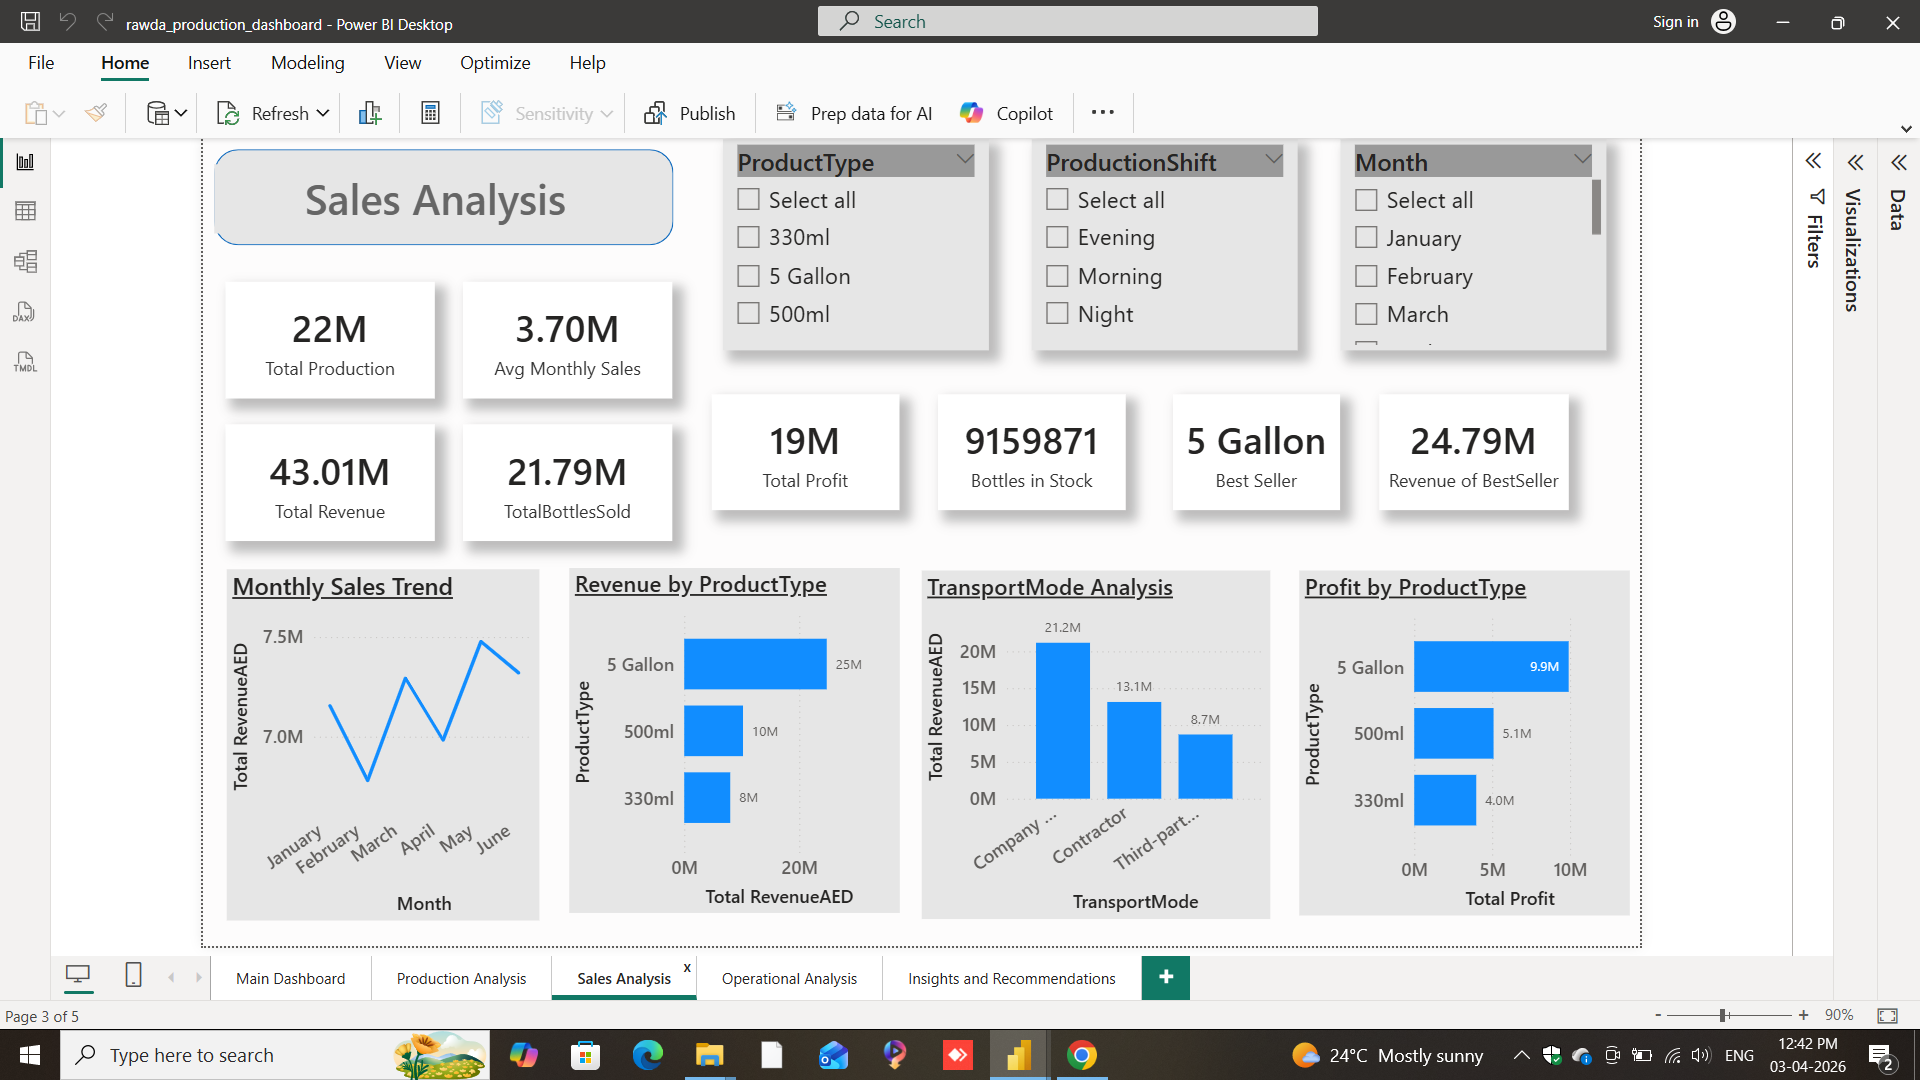

What the dashboard file says about the page in this screenshot:
{"tool":"powerbi","page":{"name":"Sales Analysis","canvas":[1280,720],"ordinal":2},"visuals":[{"type":"shape","box":[10,10,409.1,85.5],"z":1000},{"type":"textbox","box":[9.6,23.3,393.8,61.7],"z":2000},{"type":"slicer","fields":{"Values":["Rawda_procudtion_sales.ProductionShift"]},"box":[738.4,1.4,236.6,188.2],"z":3000},{"type":"slicer","fields":{"Values":["Rawda_procudtion_sales.ProductType"]},"box":[463.3,1.4,236.6,188.2],"z":4000},{"type":"card","fields":{"Values":["Sum(Rawda_production_sales.BottlesProduced)"]},"box":[20.6,127.6,186.6,104.3],"z":5000},{"type":"card","fields":{"Values":["Rawda_production_sales.Avg Monthly Sales"]},"box":[231.9,127.6,186.6,104.3],"z":6000},{"type":"card","fields":{"Values":["Rawda_production_sales.Total Revenue"]},"box":[20.6,255.2,186.6,104.3],"z":7000},{"type":"card","fields":{"Values":["Rawda_production_sales.Total Bottles Sold"]},"box":[231.9,255.2,186.6,104.3],"z":8000},{"type":"lineChart","title":"Monthly Sales Trend","fields":{"Category":["Rawda_production_sales.DateFinal.Variation.Date Hierarchy.Month"],"Y":["Sum(Rawda_production_sales.RevenueAED)"]},"box":[21.4,384.3,278.6,312.9],"z":9000},{"type":"clusteredColumnChart","title":"TransportMode Analysis","fields":{"Category":["Rawda_production_sales.TransportMode"],"Y":["Sum(Rawda_production_sales.RevenueAED)"]},"box":[640,385.7,310,310],"z":10000},{"type":"clusteredBarChart","title":"Revenue by ProductType","fields":{"Category":["Rawda_procudtion_sales.ProductType"],"Y":["Sum(Rawda_production_sales.RevenueAED)"]},"box":[325.7,382.9,294.3,307.1],"z":11000},{"type":"slicer","fields":{"Values":["Rawda_procudtion_sales.DateFinal.Variation.Date Hierarchy.Month"]},"box":[1013.5,1.4,236.6,188.2],"z":12000},{"type":"card","fields":{"Values":["Sum(Rawda_production_sales.Profit)"]},"box":[452.9,228.6,167.1,102.9],"z":13000},{"type":"card","fields":{"Values":["Rawda_production_sales.Best Seller"]},"box":[864.3,228.6,148.6,102.9],"z":14000},{"type":"card","fields":{"Values":["Rawda_production_sales.Revenue of BestSeller"]},"box":[1047.1,228.6,168.6,102.9],"z":15000},{"type":"clusteredBarChart","title":"Profit by ProductType","fields":{"Category":["Rawda_procudtion_sales.ProductType"],"Y":["Rawda_production_sales.Total Profit"]},"box":[975.7,385.7,294.3,307.1],"z":16000},{"type":"card","fields":{"Values":["Rawda_production_sales.Bottles In Stock"]},"box":[654.3,228.6,167.1,102.9],"z":17000}]}

Visuals, with their boxes on the page's 1280x720 design canvas (x1, y1, x2, y2). These are canvas units, not pixel positions in the 1920x1080 screenshot, which may show the page scaled, cropped or inside an application window:
shape: 10:10:419:96
textbox: 10:23:403:85
slicer - Rawda_procudtion_sales.ProductionShift: 738:1:975:190
slicer - Rawda_procudtion_sales.ProductType: 463:1:700:190
card - Sum(Rawda_production_sales.BottlesProduced): 21:128:207:232
card - Rawda_production_sales.Avg Monthly Sales: 232:128:418:232
card - Rawda_production_sales.Total Revenue: 21:255:207:360
card - Rawda_production_sales.Total Bottles Sold: 232:255:418:360
"Monthly Sales Trend" lineChart: 21:384:300:697
"TransportMode Analysis" clusteredColumnChart: 640:386:950:696
"Revenue by ProductType" clusteredBarChart: 326:383:620:690
slicer - Rawda_procudtion_sales.DateFinal.Variation.Date Hierarchy.Month: 1014:1:1250:190
card - Sum(Rawda_production_sales.Profit): 453:229:620:332
card - Rawda_production_sales.Best Seller: 864:229:1013:332
card - Rawda_production_sales.Revenue of BestSeller: 1047:229:1216:332
"Profit by ProductType" clusteredBarChart: 976:386:1270:693
card - Rawda_production_sales.Bottles In Stock: 654:229:821:332
